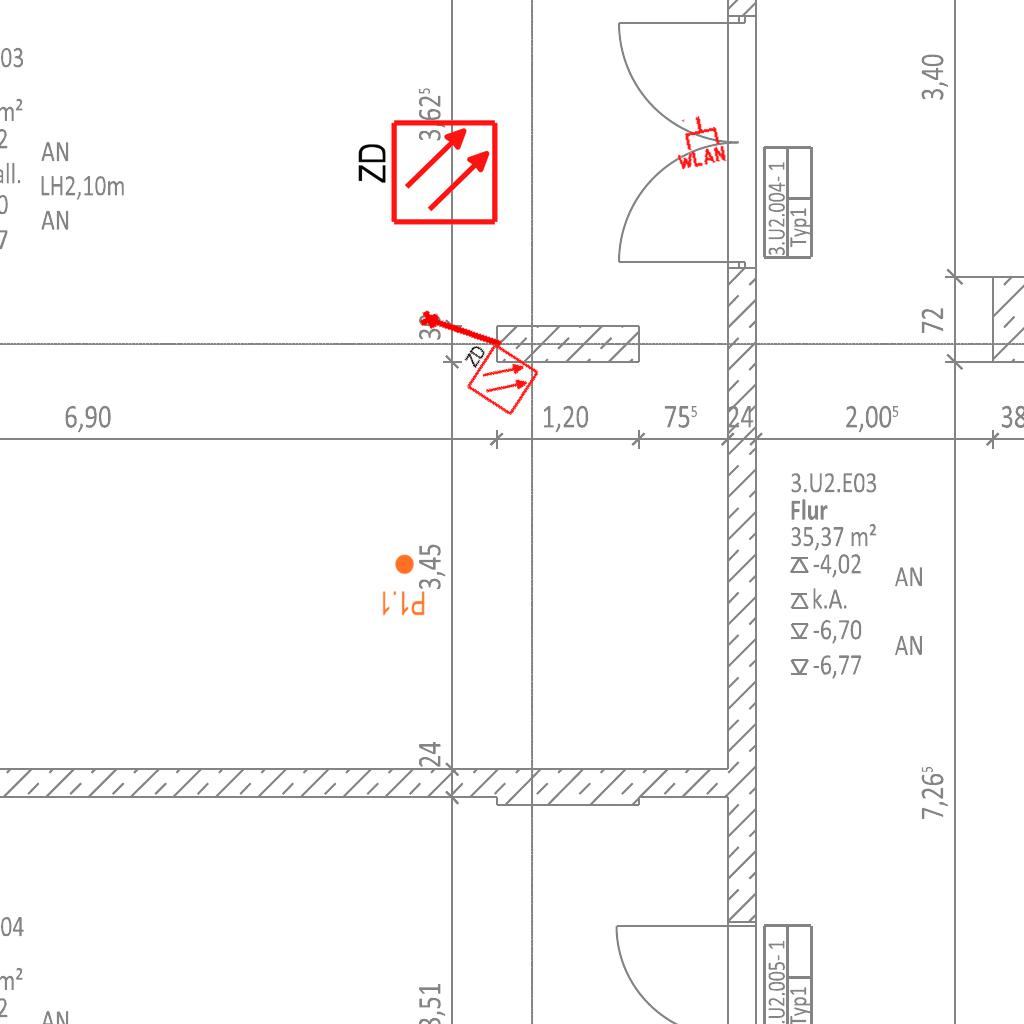ASR_Ansaugoeffnung: (416, 304, 508, 355)
Downlight_LED_Einbauleuchten_Flur: (380, 553, 426, 617)
WLAN: (667, 110, 729, 172)
ZD_Melder_in_Zwischendecke_mit_Revisionsoeffnung_mind_40_x_40_cm: (351, 117, 500, 231), (447, 330, 542, 420)
